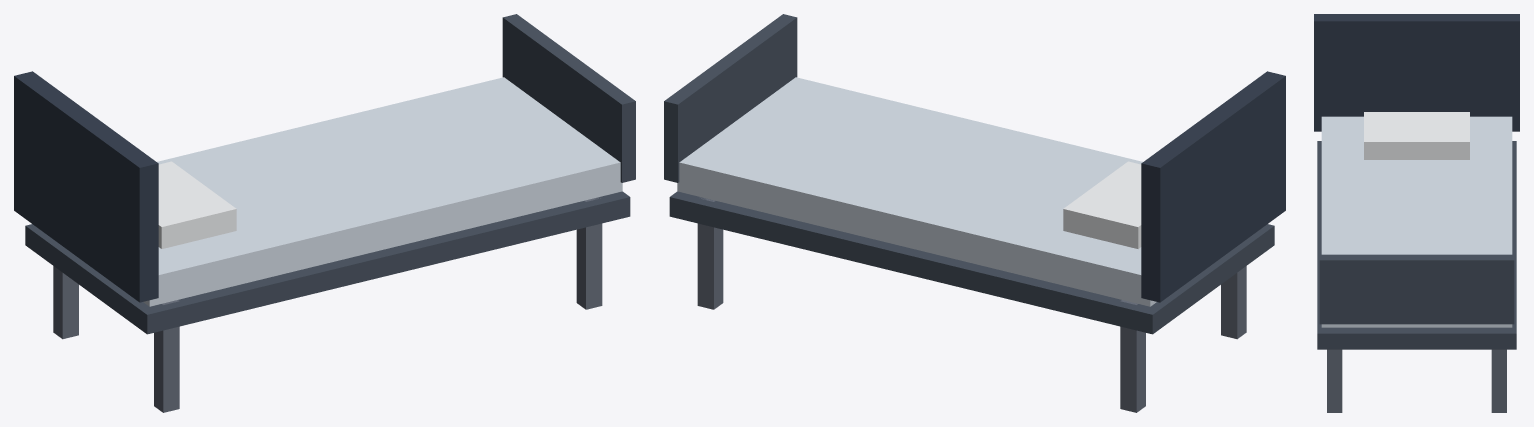
File: parametric-source.glb
3 renders of one model, left to right at view 1: azimuth 30°, elevation 25°; view 2: azimuth 150°, elevation 25°; view 3: azimuth 270°, elevation 25°, orthographic. The views are drawn at different scales.
Visible parts, largest first — view 1: openclinxr.equipment.hospital_bed_equipment.mattress_deck, openclinxr.equipment.hospital_bed_equipment.headboard, openclinxr.equipment.hospital_bed_equipment.frame, openclinxr.equipment.hospital_bed_equipment.footboard, openclinxr.equipment.hospital_bed_equipment.pillow, openclinxr.equipment.hospital_bed_equipment.leg_3, openclinxr.equipment.hospital_bed_equipment.leg_2, openclinxr.equipment.hospital_bed_equipment.leg_0; view 2: openclinxr.equipment.hospital_bed_equipment.mattress_deck, openclinxr.equipment.hospital_bed_equipment.headboard, openclinxr.equipment.hospital_bed_equipment.frame, openclinxr.equipment.hospital_bed_equipment.footboard, openclinxr.equipment.hospital_bed_equipment.pillow, openclinxr.equipment.hospital_bed_equipment.leg_1, openclinxr.equipment.hospital_bed_equipment.leg_0, openclinxr.equipment.hospital_bed_equipment.leg_2; view 3: openclinxr.equipment.hospital_bed_equipment.mattress_deck, openclinxr.equipment.hospital_bed_equipment.headboard, openclinxr.equipment.hospital_bed_equipment.footboard, openclinxr.equipment.hospital_bed_equipment.frame, openclinxr.equipment.hospital_bed_equipment.pillow, openclinxr.equipment.hospital_bed_equipment.leg_1, openclinxr.equipment.hospital_bed_equipment.leg_3.
Boxes of the visible parts, box(x1,y1,x2,y2) form: openclinxr.equipment.hospital_bed_equipment.mattress_deck: box(143, 77, 622, 306); openclinxr.equipment.hospital_bed_equipment.headboard: box(14, 71, 158, 302); openclinxr.equipment.hospital_bed_equipment.frame: box(25, 191, 630, 334); openclinxr.equipment.hospital_bed_equipment.footboard: box(502, 14, 635, 182); openclinxr.equipment.hospital_bed_equipment.pillow: box(158, 161, 236, 248); openclinxr.equipment.hospital_bed_equipment.leg_3: box(576, 197, 602, 309); openclinxr.equipment.hospital_bed_equipment.leg_2: box(154, 300, 179, 412); openclinxr.equipment.hospital_bed_equipment.leg_0: box(53, 266, 78, 339); openclinxr.equipment.hospital_bed_equipment.mattress_deck: box(677, 77, 1156, 306); openclinxr.equipment.hospital_bed_equipment.headboard: box(1141, 71, 1285, 302); openclinxr.equipment.hospital_bed_equipment.frame: box(669, 191, 1274, 334); openclinxr.equipment.hospital_bed_equipment.footboard: box(664, 14, 797, 182); openclinxr.equipment.hospital_bed_equipment.pillow: box(1063, 161, 1141, 248); openclinxr.equipment.hospital_bed_equipment.leg_1: box(697, 197, 723, 309); openclinxr.equipment.hospital_bed_equipment.leg_0: box(1120, 300, 1145, 412); openclinxr.equipment.hospital_bed_equipment.leg_2: box(1221, 266, 1246, 339); openclinxr.equipment.hospital_bed_equipment.mattress_deck: box(1321, 116, 1512, 327); openclinxr.equipment.hospital_bed_equipment.headboard: box(1314, 14, 1519, 131); openclinxr.equipment.hospital_bed_equipment.footboard: box(1319, 254, 1514, 324); openclinxr.equipment.hospital_bed_equipment.frame: box(1317, 141, 1516, 349); openclinxr.equipment.hospital_bed_equipment.pillow: box(1364, 112, 1469, 159); openclinxr.equipment.hospital_bed_equipment.leg_1: box(1491, 349, 1506, 412); openclinxr.equipment.hospital_bed_equipment.leg_3: box(1327, 349, 1342, 412).
Size of the model in its own units: 2.13 by 1.06 by 0.931.
